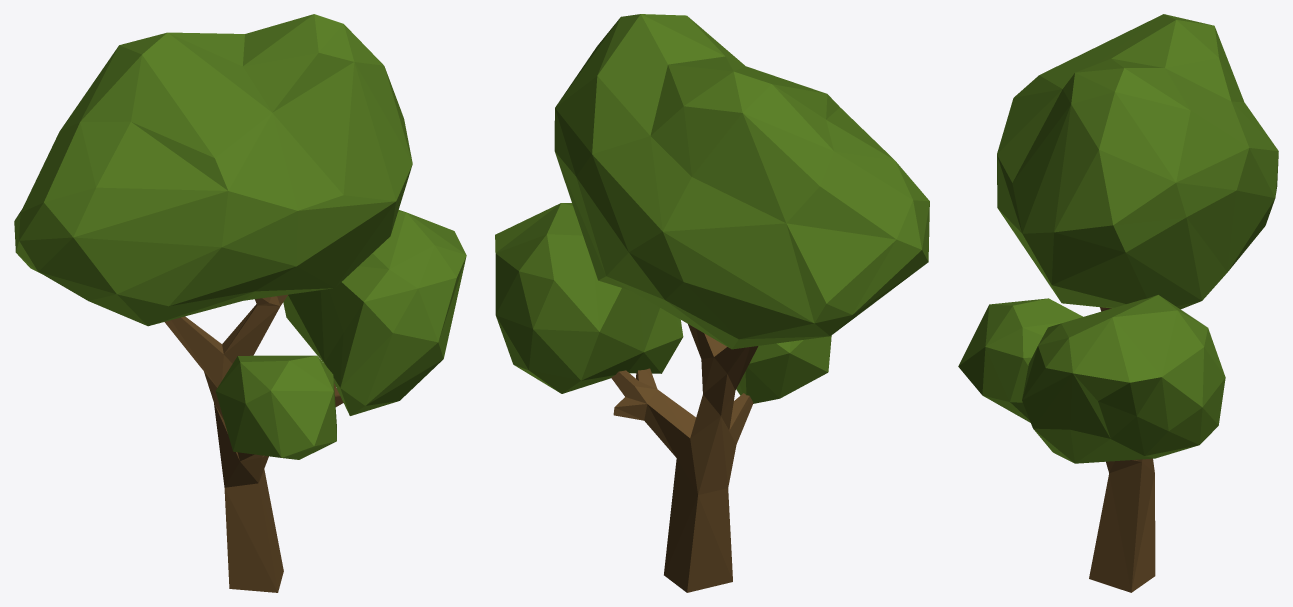
The picture shows the model from 3 angles, left to right: view 1: azimuth 30°, elevation 25°; view 2: azimuth 150°, elevation 25°; view 3: azimuth 270°, elevation 25°; orthographic projection. The views are drawn at different scales.
Visible parts, largest first — view 1: Tree1_1; view 2: Tree1_1; view 3: Tree1_1.
Part boxes in pixels (x1,y1,x2,y2): Tree1_1: (14, 14, 466, 592); Tree1_1: (495, 14, 929, 592); Tree1_1: (958, 14, 1278, 592).
Bounding box in the file's own units: 6 × 7.35 × 3.97.
